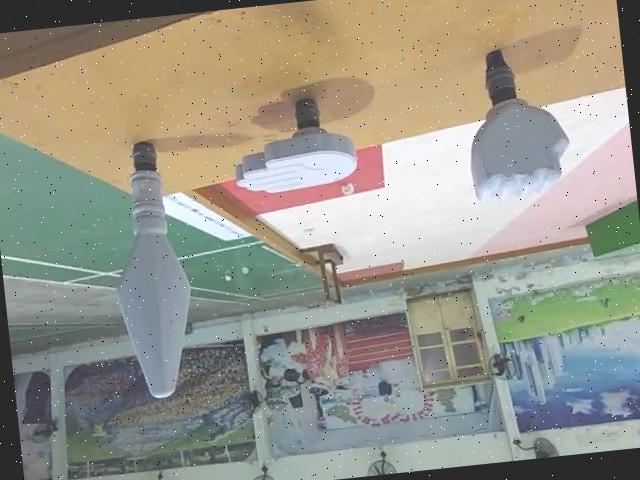Fist: (456, 40, 575, 205)
Hand: (223, 90, 356, 203)
Sph: (100, 138, 212, 407)
